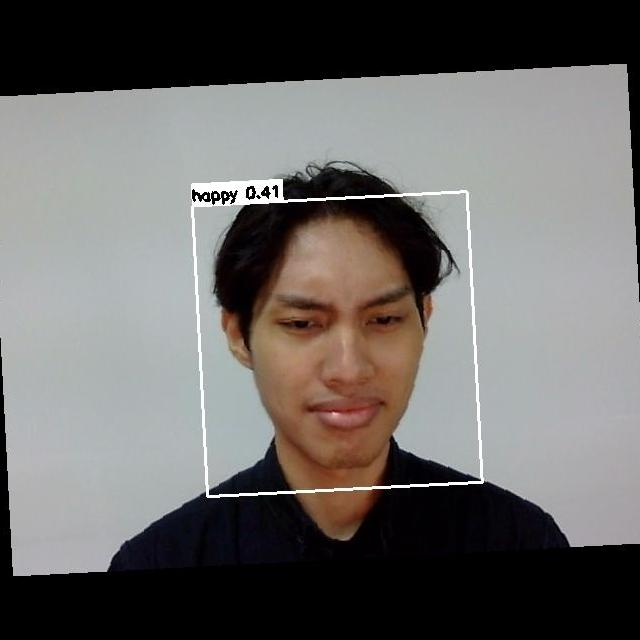Disgust: (253, 258, 424, 441)
